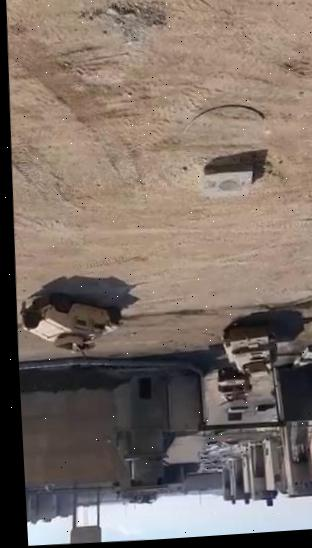armored_car: (17, 284, 124, 357), (214, 366, 253, 406)
tank: (219, 322, 277, 379)
